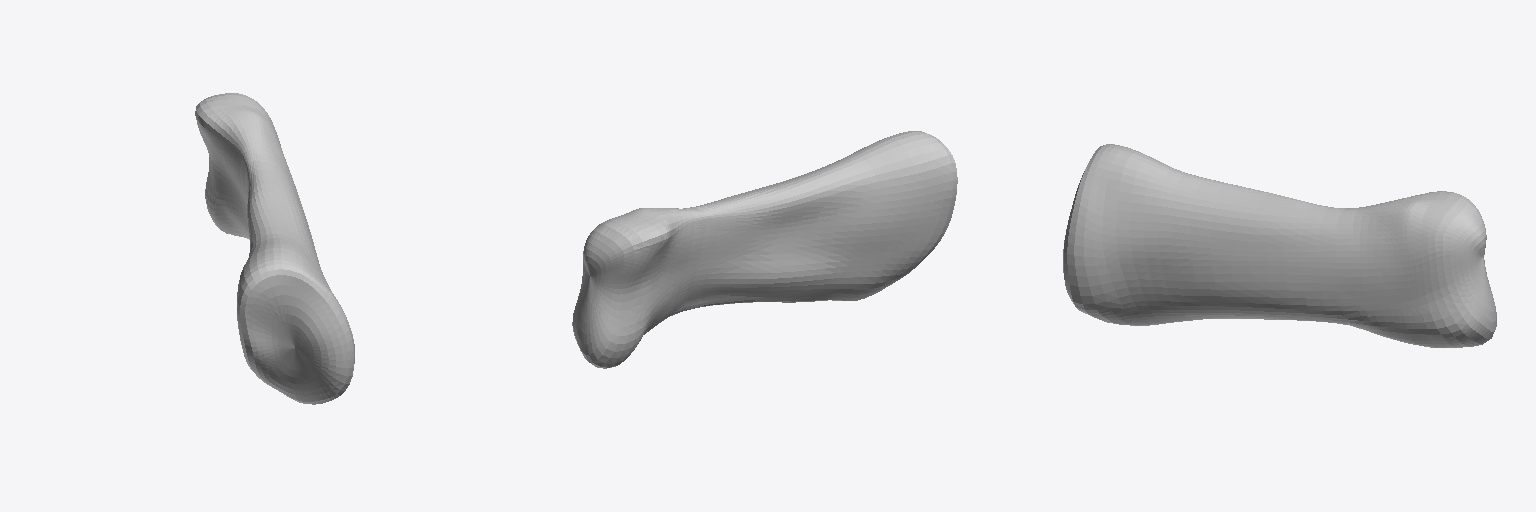
The model's file is HP3MiddleLeft.obj.
The picture shows the model from 3 angles: view 1: azimuth 30°, elevation 25°; view 2: azimuth 150°, elevation 25°; view 3: azimuth 270°, elevation 25°; orthographic projection.
Bounding box in the file's own units: 0.0191 × 0.0147 × 0.0349.